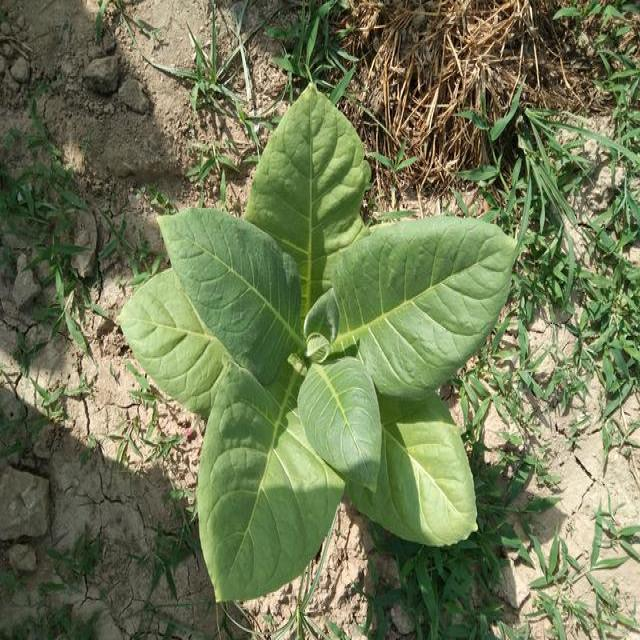crop: (119, 76, 527, 605)
